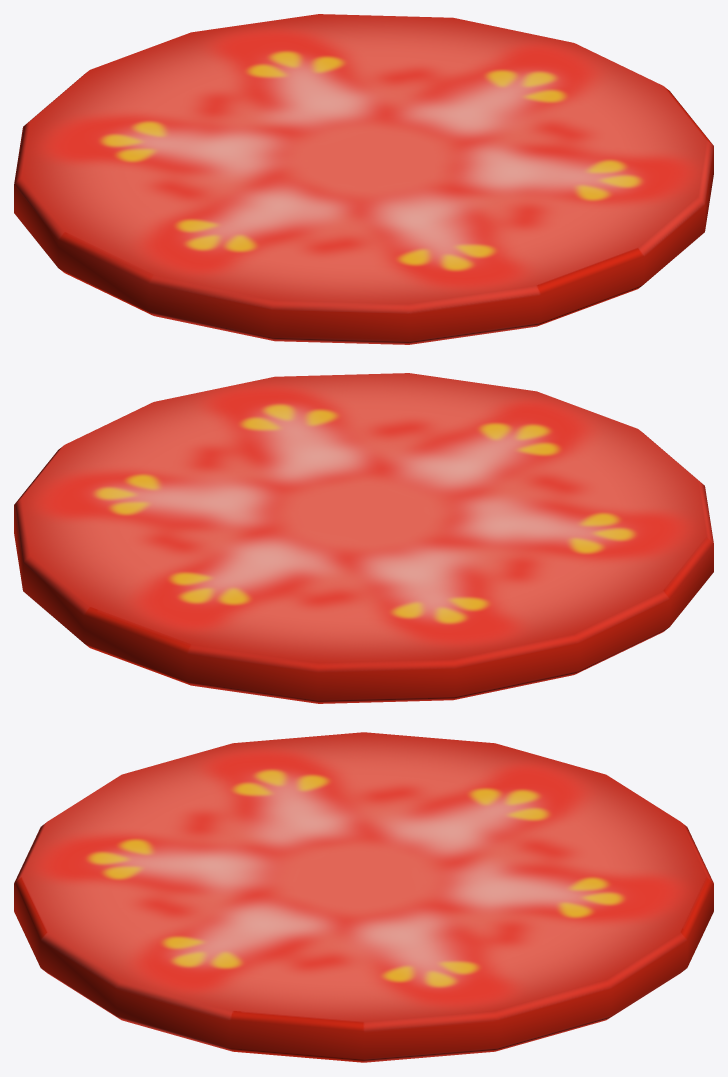
The model's file is TomatoSliced.fbx.
The picture shows the model from 3 angles, top to bottom: view 1: azimuth 30°, elevation 25°; view 2: azimuth 150°, elevation 25°; view 3: azimuth 270°, elevation 25°; orthographic projection.
Parts seen in each view (by area): view 1: Tomato slice; view 2: Tomato slice; view 3: Tomato slice.
Part boxes in pixels (x1,y1,x2,y2): Tomato slice: (14,14,713,344); Tomato slice: (14,373,713,703); Tomato slice: (14,732,713,1062).
Size of the model in its own units: 13.66 by 0.881 by 13.66.
